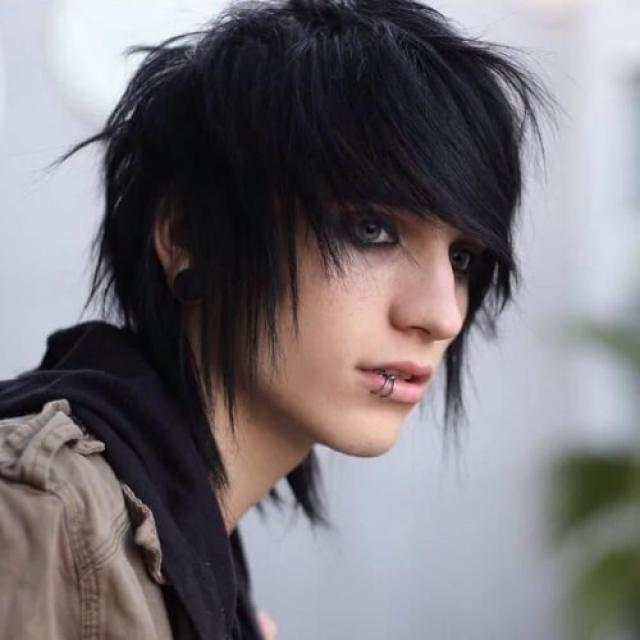Nonhelmet: (48, 0, 560, 530)
